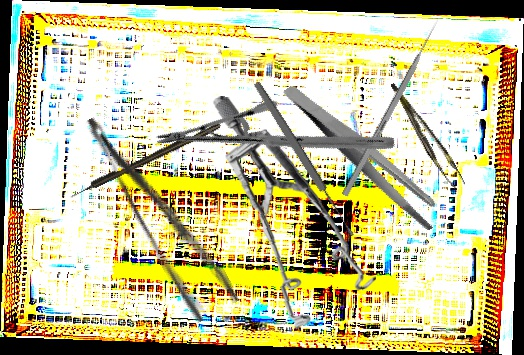Dressing Forceps: (82, 97, 241, 326), (281, 54, 447, 257)
Hook Surgical: (67, 121, 223, 200)
Needle Holder: (153, 37, 398, 245)
Pusher: (341, 18, 442, 197)
Speculum: (196, 95, 389, 335)
Surgical Spoon: (251, 79, 357, 240)
Tissue Forceps: (390, 75, 466, 194)
